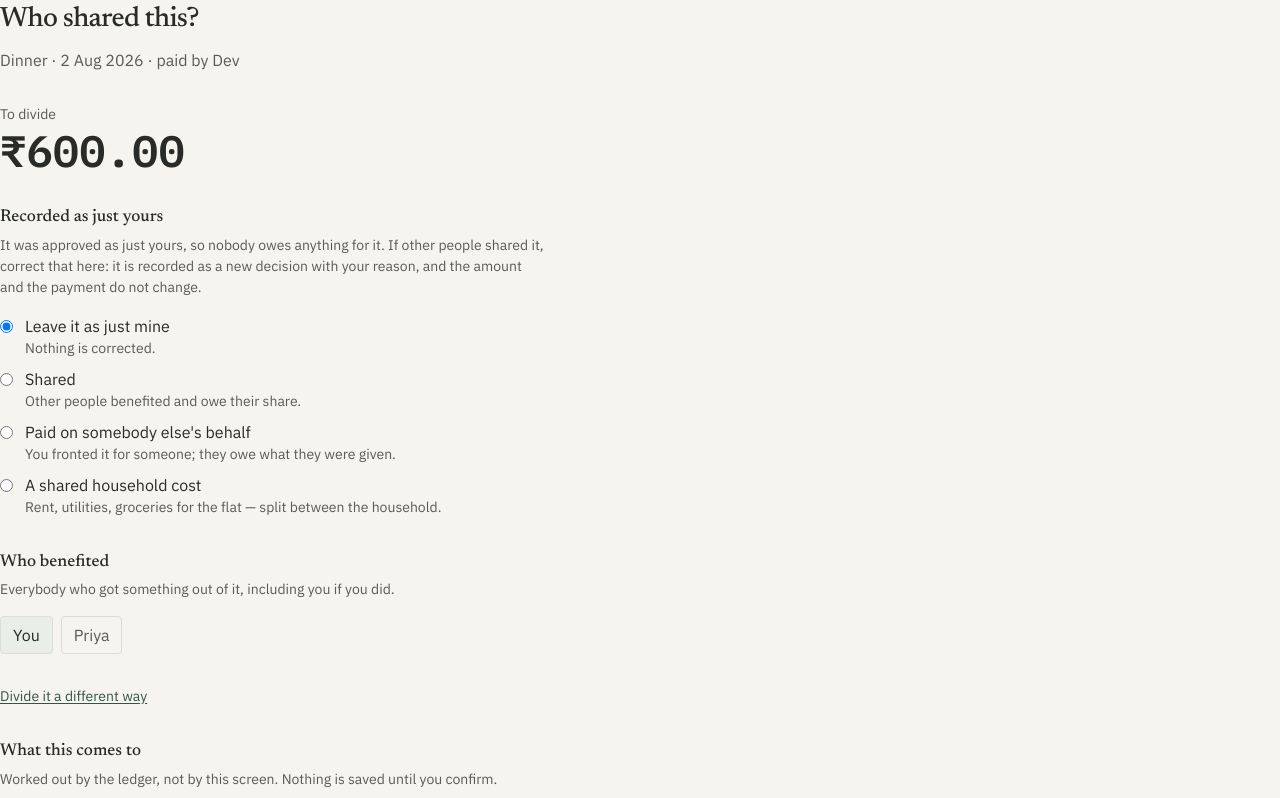
Scenario: correcting an expense approved as just yours › after a lost answer, reads the ledger and reports done without sending twice
Check: the heading "Recorded as just yours" is shown, box [0,209,163,226]
Click the radio button labelled "Shared Other people benefited and owe their share." at coordinates (6, 379), box [0,372,13,386]
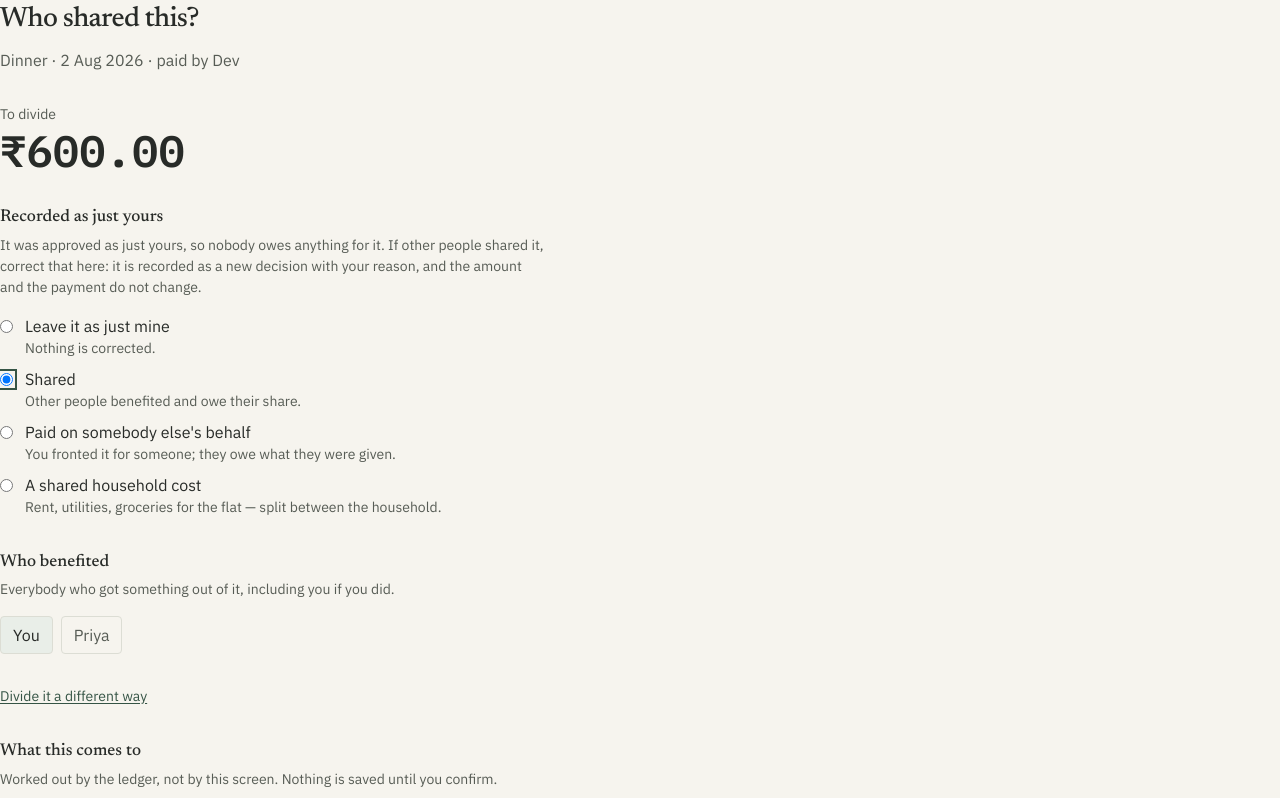
Click the button "Priya" at coordinates (92, 635), box [61,616,122,654]
(page scrolled)
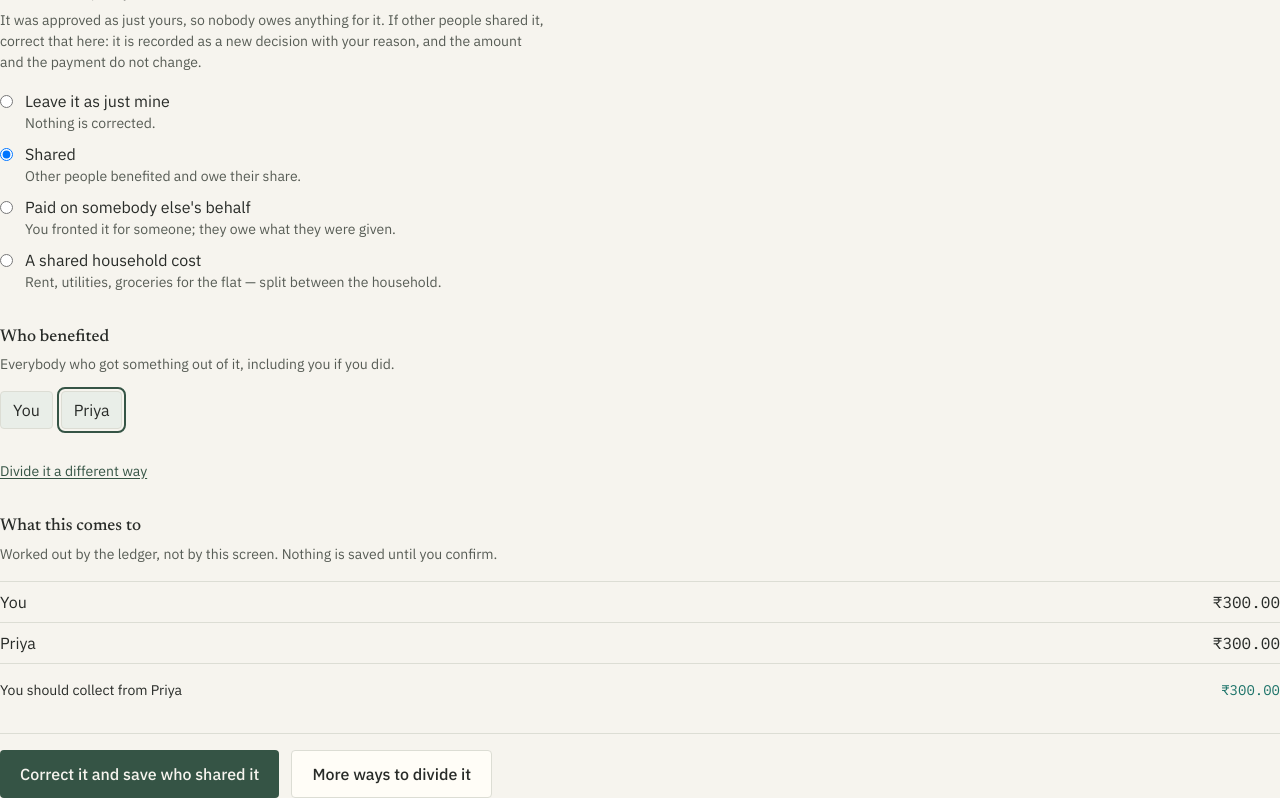
Check: the text "You should collect from Priya" is shown, box [0,680,182,700]
Click the button "Correct it and save who shared it" at coordinates (140, 774), box [0,750,280,797]
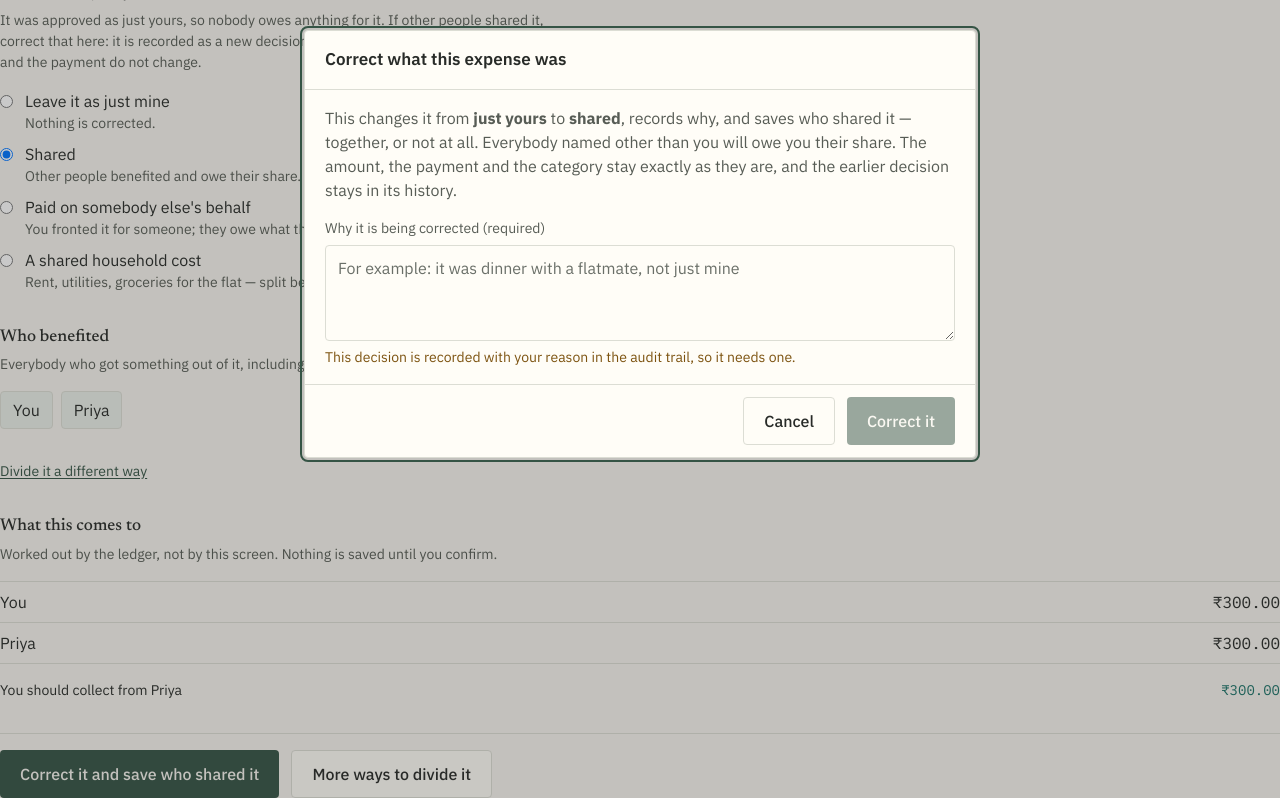
Type "Dinner with Priya" into the text box labelled "Why it is being corrected (required)" at coordinates (640, 292), box [325,244,955,340]
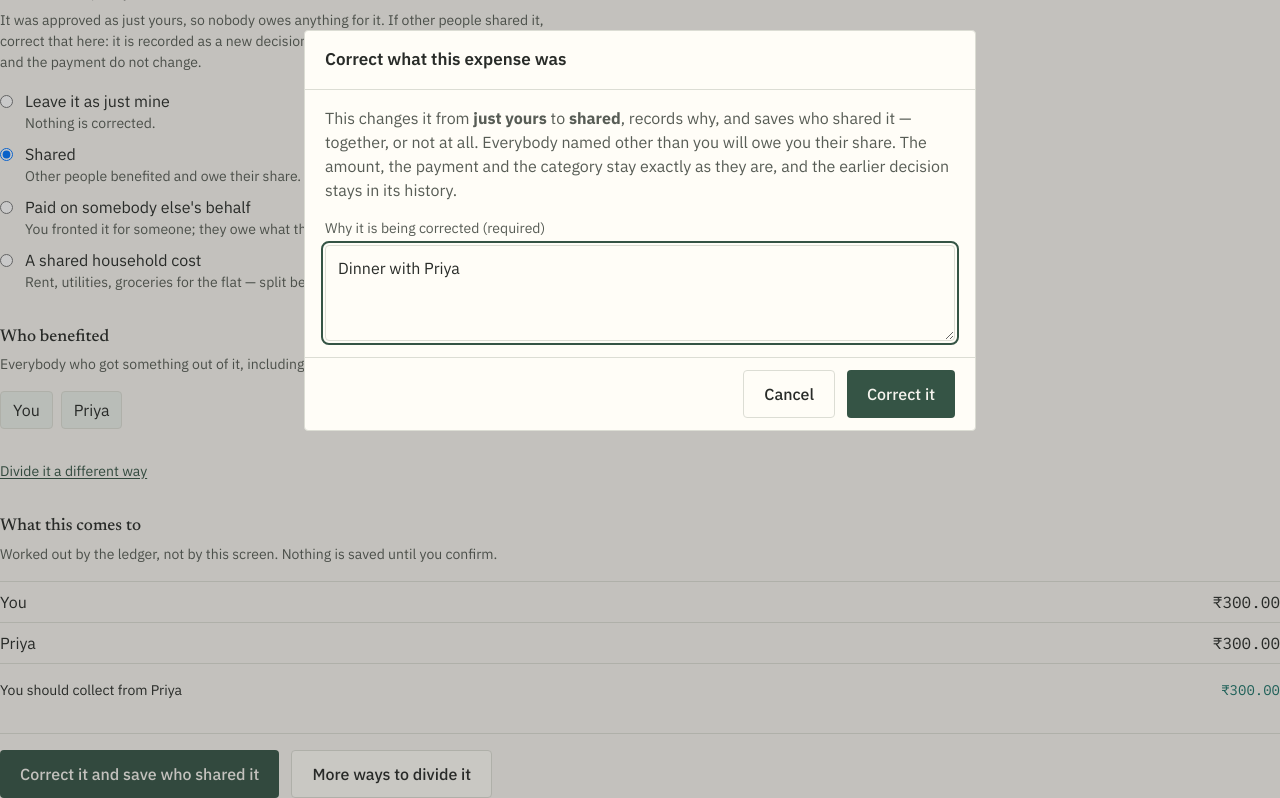
Click the button "Correct it" at coordinates (901, 394), box [847,370,955,418]
(page scrolled)
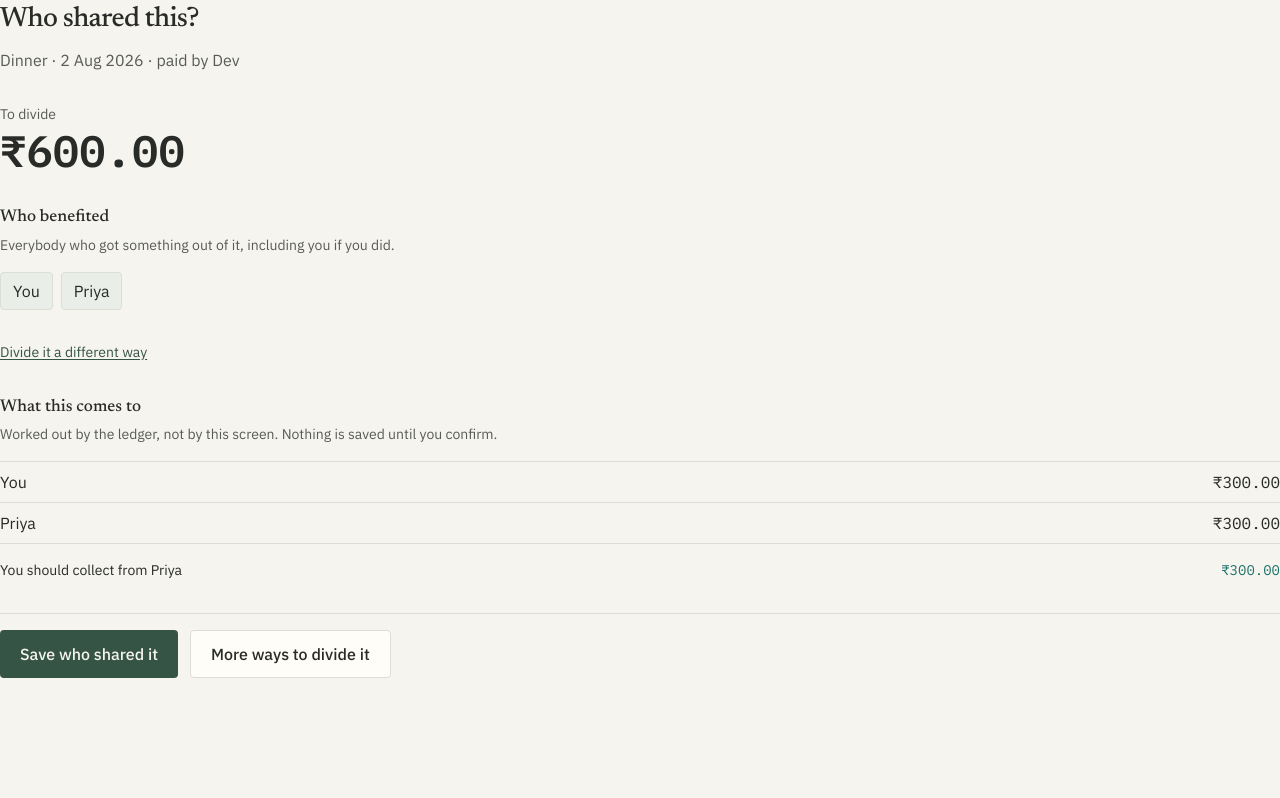
Check: the dialog is gone
